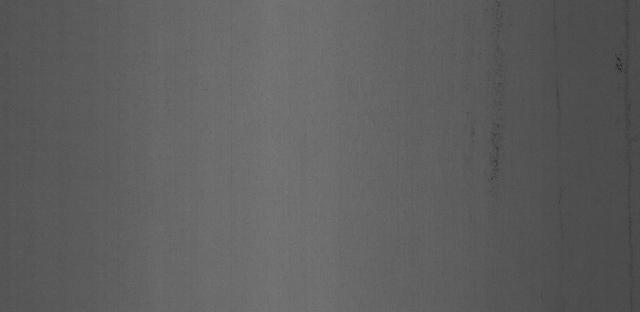inclusion: (482, 3, 515, 192), (610, 50, 630, 79)
